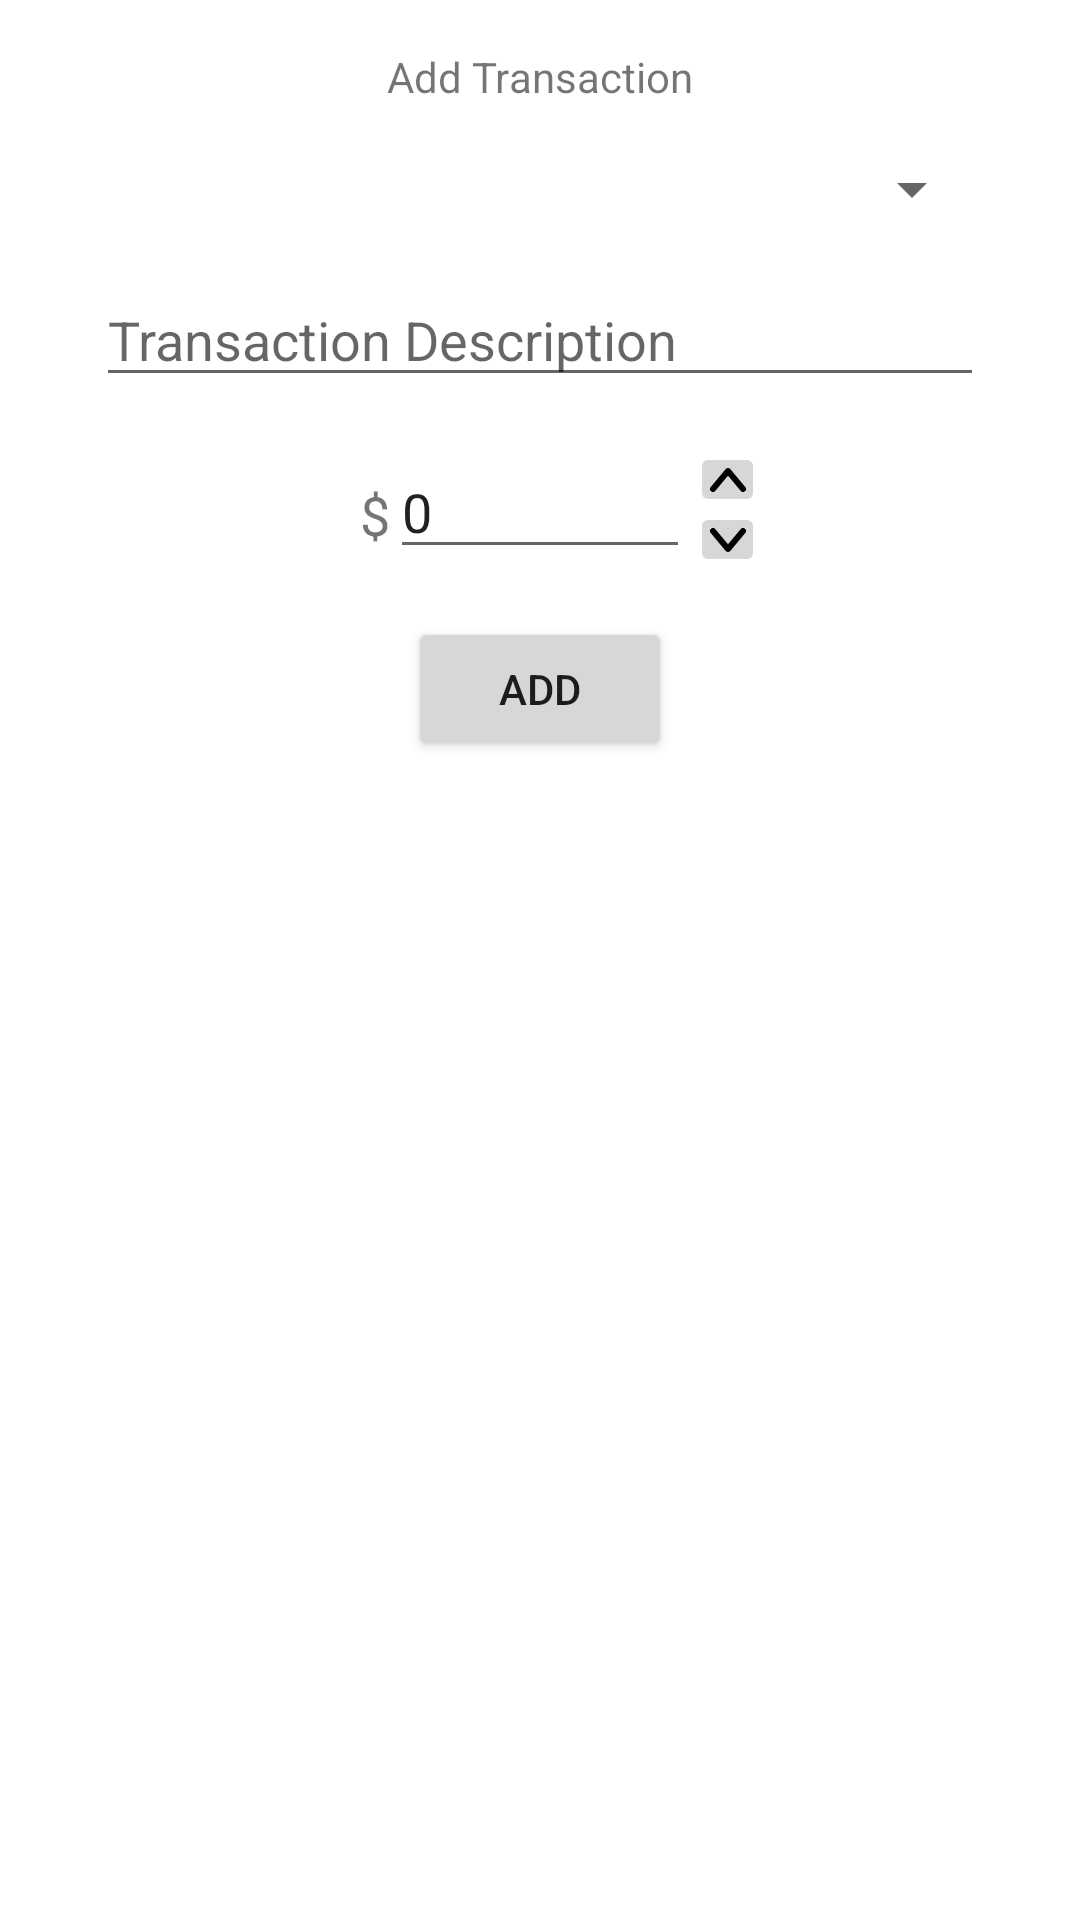

Screen size 1080w x 1920h. Icon name, then its box in pixels as (x1, y1, x2, y2):
down: (702, 520, 753, 559)
